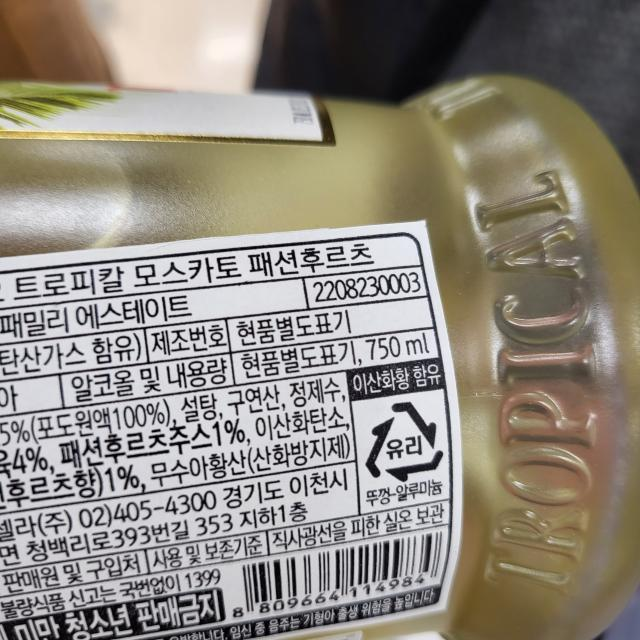Glass: (365, 397, 449, 482)
